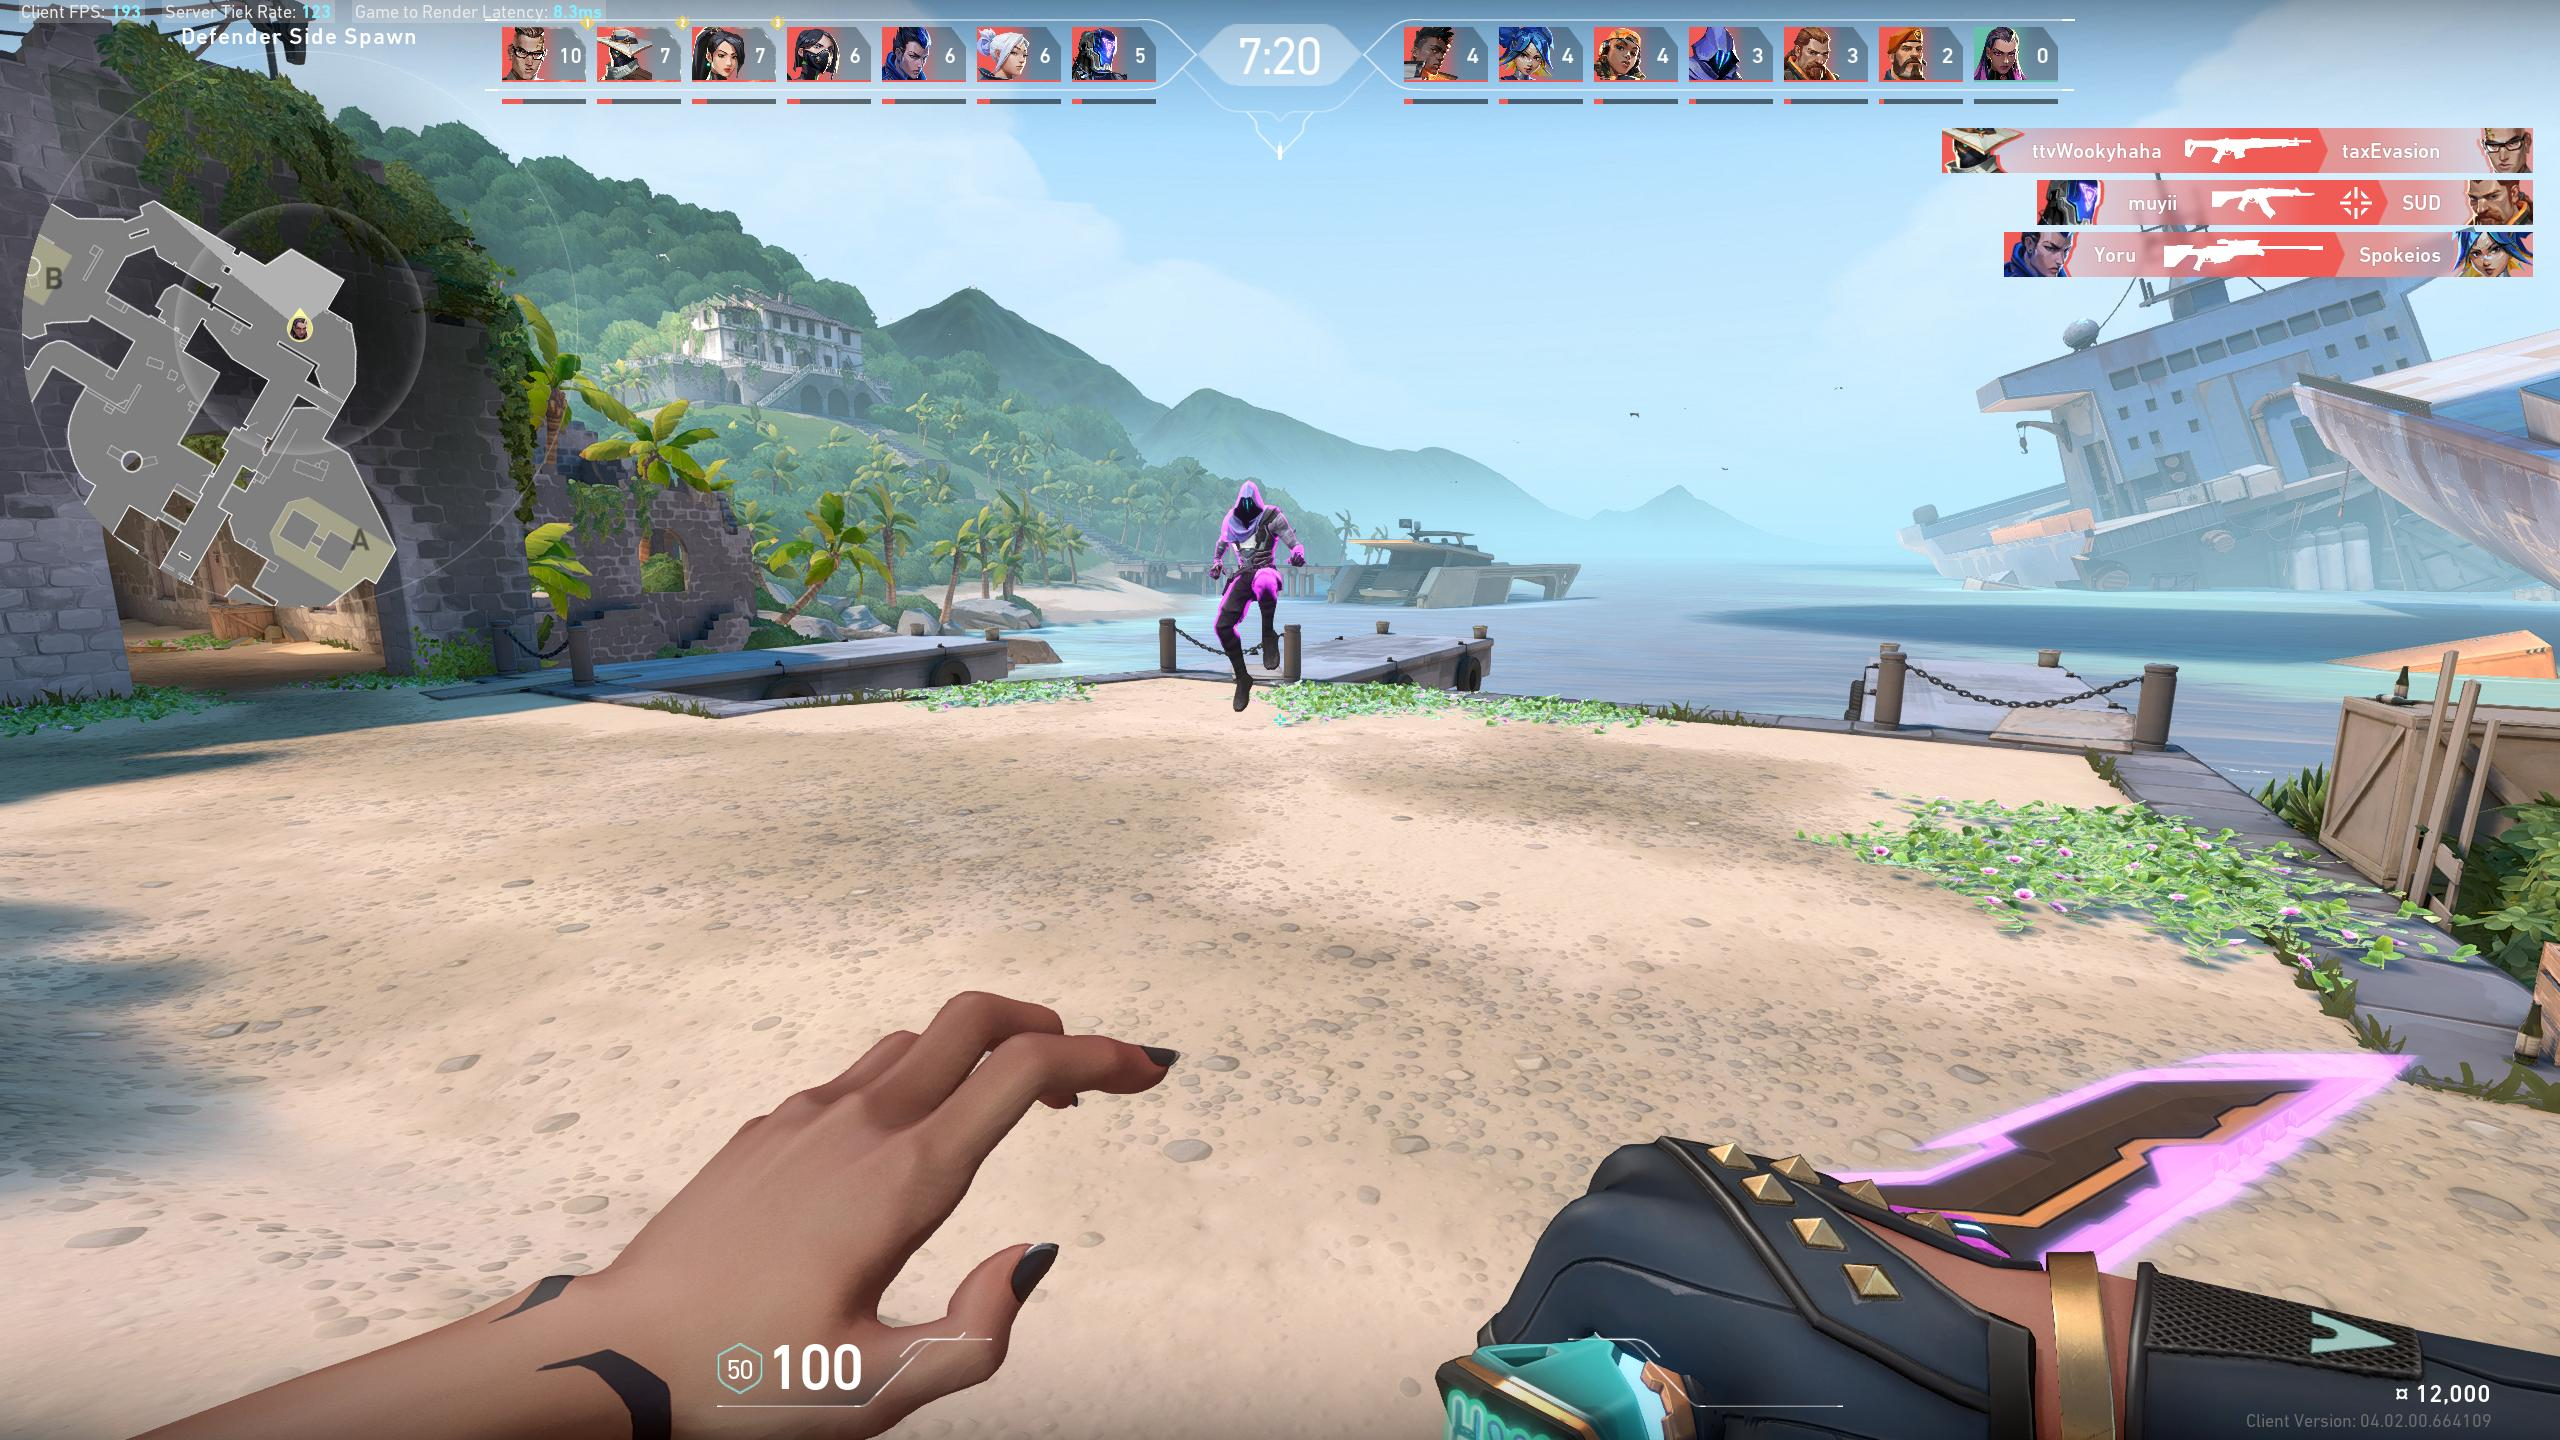enemyBody: (1241, 524, 1268, 570)
enemyHead: (1240, 498, 1259, 519)
